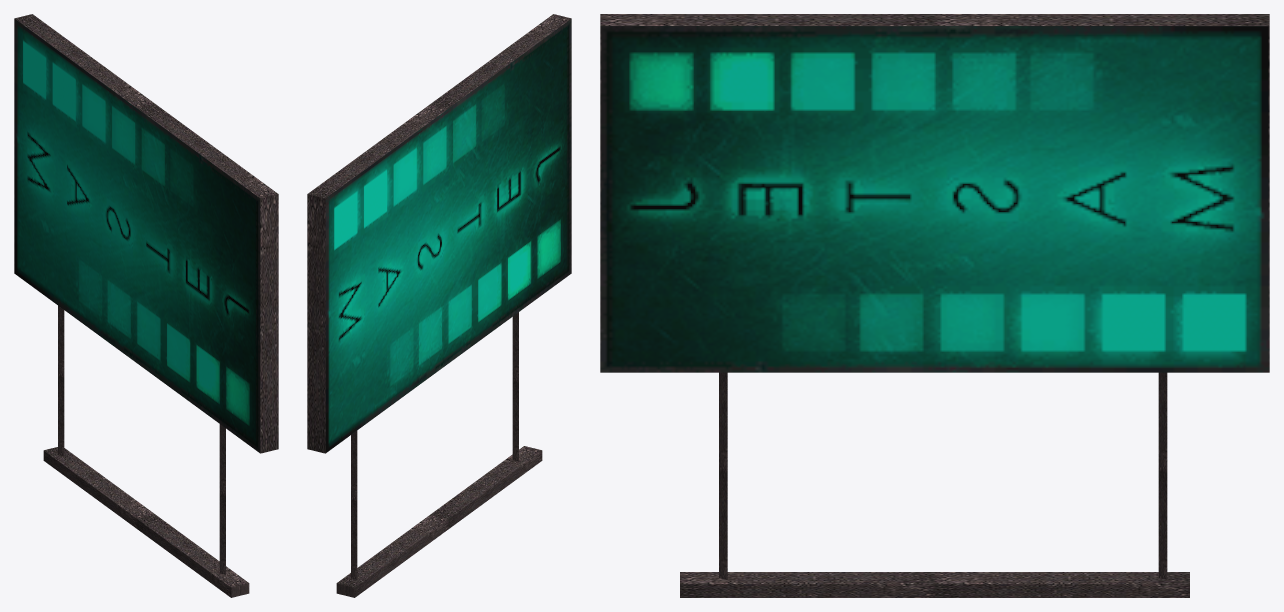
Rendered from jetsam.fbx.
The picture shows the model from 3 angles, left to right: view 1: azimuth 30°, elevation 25°; view 2: azimuth 150°, elevation 25°; view 3: azimuth 270°, elevation 25°; orthographic projection. The views are drawn at different scales.
Visible parts, largest first — view 1: mesh_0; view 2: mesh_0; view 3: mesh_0.
Part boxes in pixels (x1,y1,x2,y2): mesh_0: (14,14,278,597); mesh_0: (307,14,571,597); mesh_0: (600,14,1269,597).
Bounding box in the file's own units: 18 × 396 × 420.
1 material, 1 textured.
